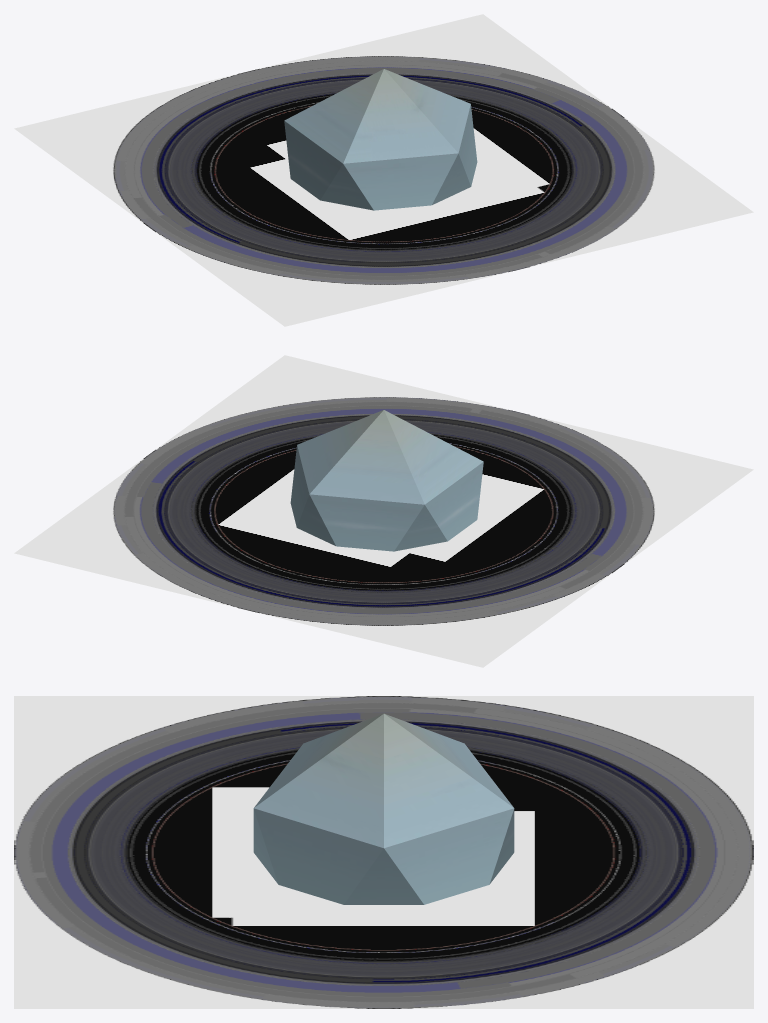
Rendered from uranus_min_poly.obj.
The picture shows the model from 3 angles, top to bottom: view 1: azimuth 30°, elevation 25°; view 2: azimuth 150°, elevation 25°; view 3: azimuth 270°, elevation 25°; orthographic projection. The views are drawn at different scales.
Parts seen in each view (by area): view 1: Plane_Plane.001, Icosphere; view 2: Plane_Plane.001, Icosphere; view 3: Plane_Plane.001, Icosphere.
Part boxes in pixels (box(x1,y1,x2,y2)): Plane_Plane.001: box(14, 14, 753, 326); Icosphere: box(284, 69, 477, 210); Plane_Plane.001: box(14, 355, 753, 667); Icosphere: box(290, 410, 483, 551); Plane_Plane.001: box(14, 696, 753, 1008); Icosphere: box(253, 713, 514, 904).
Bounding box in the file's own units: 4.83 × 2 × 4.83.
